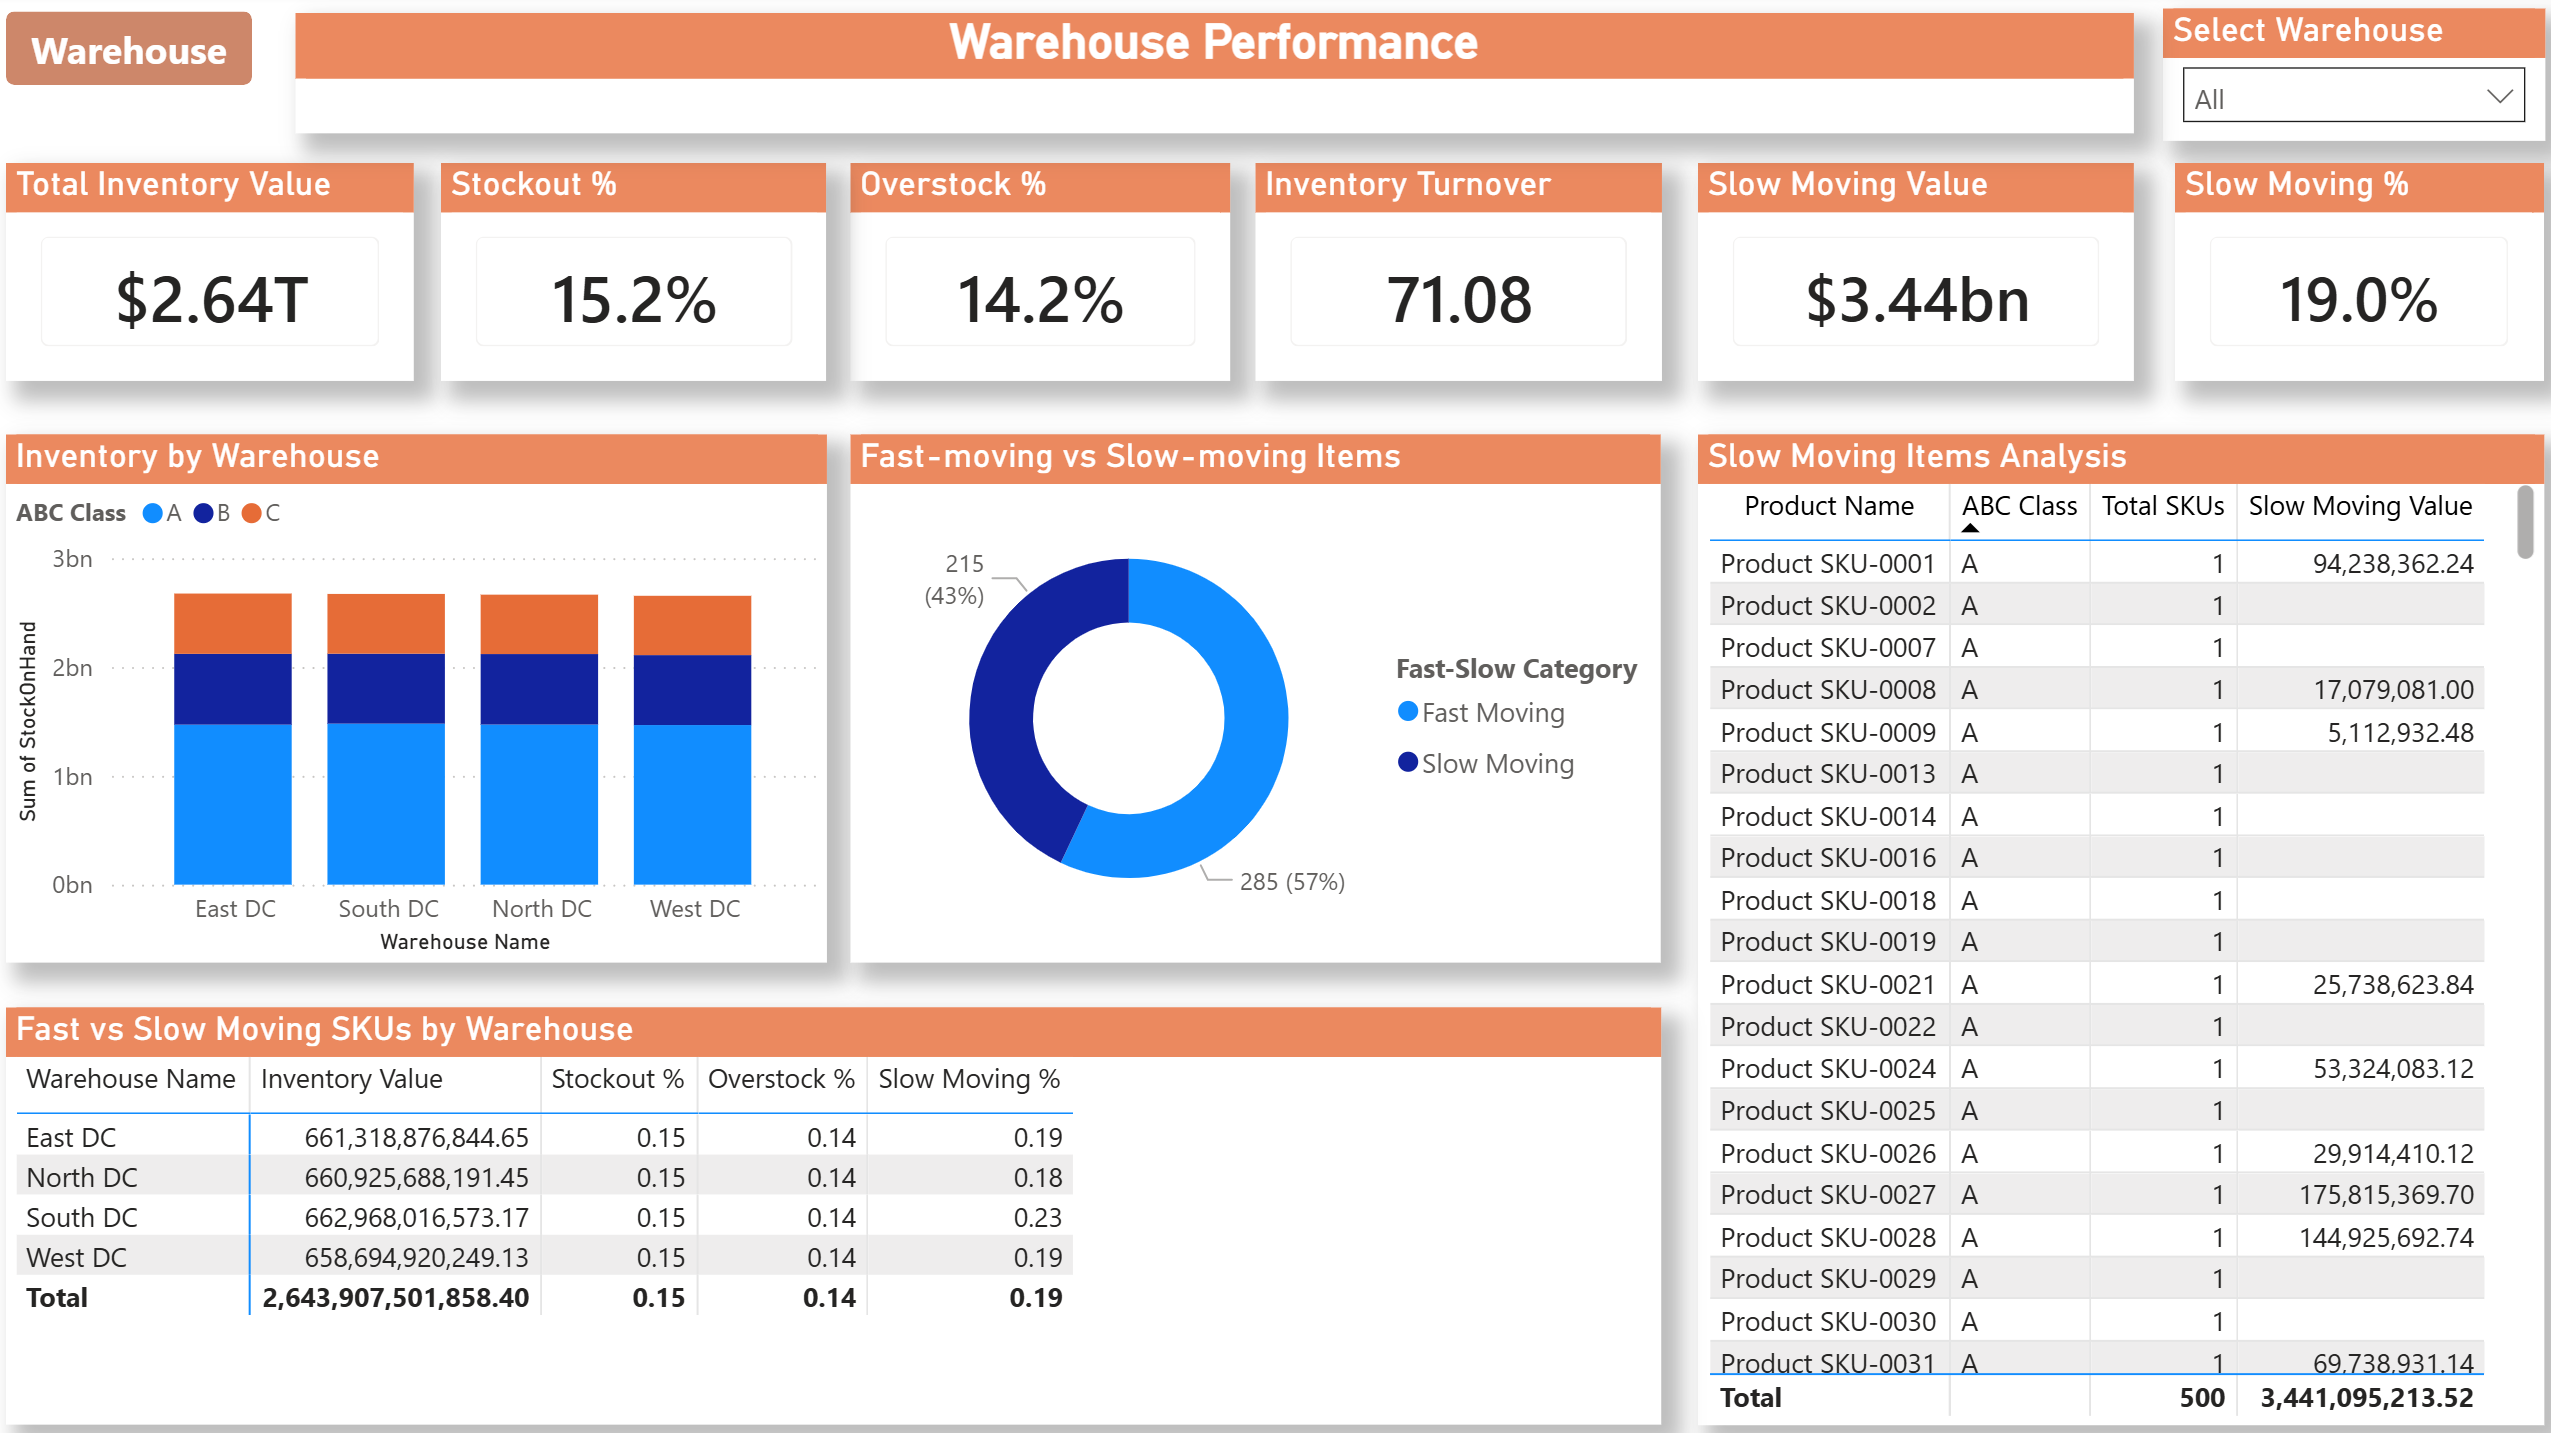

Layout of this report page (visuals, bound fields, positions):
{"tool":"powerbi","page":{"name":"Warehouse Performance","canvas":[1280,720],"ordinal":1},"visuals":[{"type":"slicer","title":"Select Warehouse","fields":{"Values":["Warehouses.WarehouseName"]},"box":[1082.8,6.4,190.4,66.2],"z":0},{"type":"columnChart","title":"Inventory by Warehouse","fields":{"Category":["Warehouses.WarehouseName"],"Series":["Products.ABC_Class"],"Y":["Sum(Inventory_Snapshots.StockOnHand)"]},"box":[7.4,219,409.4,263.1],"z":1000},{"type":"cardVisual","title":"Total Inventory Value","fields":{"Data":["Inventory_Snapshots.Total Inventory Value"]},"box":[7.4,83.7,203.3,108.6],"z":2000},{"type":"cardVisual","title":"Overstock %","fields":{"Data":["Inventory_Snapshots.Overstock %"]},"box":[428.7,83.7,189.5,108.6],"z":3000},{"type":"cardVisual","title":"Stockout %","fields":{"Data":["Inventory_Snapshots.Stockout %"]},"box":[224.5,83.7,192.3,108.6],"z":4000},{"type":"cardVisual","title":"Inventory Turnover","fields":{"Data":["Inventory_Snapshots.Inventory Turnover"]},"box":[630.2,83.7,202.4,108.6],"z":5000},{"type":"donutChart","title":"Fast-moving vs Slow-moving Items","fields":{"Y":["Count(Products.SKU)"],"Category":["Products.Fast Slow Category"]},"box":[428.7,219,403.9,263.1],"z":6000},{"type":"cardVisual","title":"Slow Moving Value","fields":{"Data":["Sales.Slow Moving Value"]},"box":[851,83.7,217.1,108.6],"z":7000},{"type":"cardVisual","title":"Slow Moving %","fields":{"Data":["Sales.Slow Moving %"]},"box":[1089.3,83.7,184,108.6],"z":8000},{"type":"tableEx","title":"Slow Moving Items Analysis","fields":{"Values":["Products.ProductName","Products.ABC_Class","Products.Total SKUs","Sales.Slow Moving Value"]},"box":[851,219,422.3,494],"z":9000},{"type":"textbox","title":"Warehouse Performance","box":[152.1,8.8,916.3,59.8],"z":10000},{"type":"pivotTable","title":"Fast vs Slow Moving SKUs by Warehouse","fields":{"Rows":["Warehouses.WarehouseName"],"Values":["Warehouses.Inventory Value by Warehouse","Warehouses.Stockout % by Warehouse","Warehouses.Overstock % by Warehouse","Sales.Slow Moving %"]},"box":[7.4,505.1,825.2,207.9],"z":11000},{"type":"actionButton","title":"Overview","box":[7.7,8.5,122.7,36.6],"z":11001}]}

Visuals, with their boxes in screenshot pixels (x1, y1, x2, y2), scaled from the page's 1280x720 canvas onto the 2551x1433 screenshot:
"Select Warehouse" slicer: box=[2158, 13, 2537, 144]
"Inventory by Warehouse" columnChart: box=[15, 436, 831, 960]
"Total Inventory Value" cardVisual: box=[15, 167, 420, 383]
"Overstock %" cardVisual: box=[854, 167, 1232, 383]
"Stockout %" cardVisual: box=[447, 167, 831, 383]
"Inventory Turnover" cardVisual: box=[1256, 167, 1659, 383]
"Fast-moving vs Slow-moving Items" donutChart: box=[854, 436, 1659, 960]
"Slow Moving Value" cardVisual: box=[1696, 167, 2129, 383]
"Slow Moving %" cardVisual: box=[2171, 167, 2538, 383]
"Slow Moving Items Analysis" tableEx: box=[1696, 436, 2538, 1419]
"Warehouse Performance" textbox: box=[303, 18, 2129, 137]
"Fast vs Slow Moving SKUs by Warehouse" pivotTable: box=[15, 1005, 1659, 1419]
"Overview" actionButton: box=[15, 17, 260, 90]
